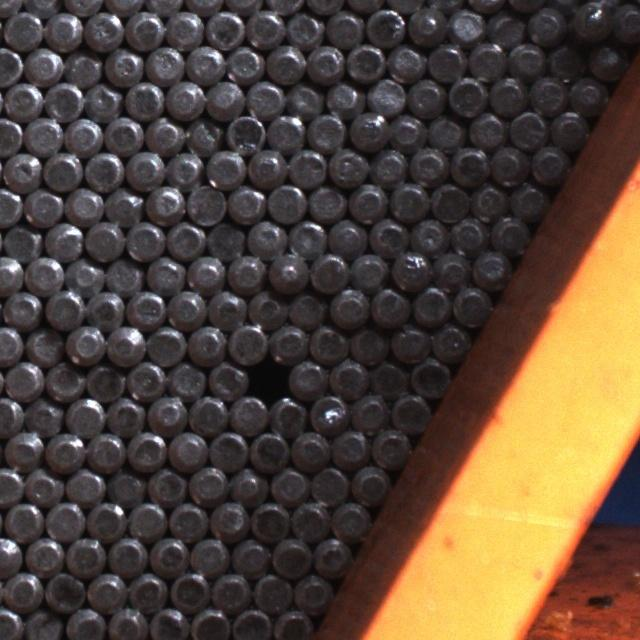tool: (251, 570, 292, 612), (43, 570, 84, 612), (349, 462, 390, 503), (568, 1, 609, 42), (128, 568, 168, 610), (312, 533, 352, 575), (292, 572, 334, 612), (265, 180, 305, 221), (164, 78, 204, 119), (488, 144, 528, 185), (24, 324, 64, 365), (22, 533, 62, 574), (227, 321, 267, 362), (410, 283, 450, 324), (185, 182, 225, 223), (86, 569, 126, 610), (1, 287, 42, 327), (2, 568, 43, 608), (267, 321, 307, 362), (166, 428, 206, 469), (244, 78, 284, 119), (365, 5, 406, 45), (224, 112, 265, 152), (245, 145, 285, 186), (267, 249, 307, 290), (210, 569, 250, 610), (448, 144, 488, 185), (328, 355, 368, 396), (427, 39, 467, 80), (271, 534, 311, 575), (288, 498, 329, 538), (248, 499, 289, 539), (371, 426, 411, 467), (172, 566, 213, 606), (411, 356, 452, 396), (186, 324, 226, 364), (308, 322, 348, 362), (64, 534, 104, 574), (184, 43, 224, 83), (107, 533, 147, 573), (287, 357, 327, 397), (188, 534, 228, 574), (204, 147, 244, 187), (2, 80, 42, 120), (64, 323, 104, 363), (408, 144, 448, 184), (209, 498, 249, 538), (289, 428, 329, 468), (388, 249, 428, 289), (507, 107, 547, 147), (167, 500, 207, 540), (187, 462, 227, 502), (328, 286, 368, 326), (82, 8, 122, 48), (144, 183, 184, 223), (22, 254, 62, 294), (244, 6, 284, 46), (284, 8, 324, 48), (230, 535, 270, 575), (187, 393, 227, 433), (45, 499, 85, 539), (286, 217, 326, 257), (347, 182, 387, 222), (526, 4, 566, 44), (42, 220, 82, 260), (349, 324, 389, 364), (225, 251, 265, 291), (305, 109, 345, 149), (309, 464, 349, 504), (367, 216, 407, 256), (43, 360, 83, 400), (145, 325, 185, 365), (208, 429, 248, 469), (3, 428, 43, 468), (102, 114, 142, 154), (146, 390, 186, 430), (310, 390, 350, 430), (324, 7, 364, 47), (348, 108, 388, 148), (44, 288, 84, 328), (104, 392, 144, 432), (147, 533, 187, 573), (428, 180, 468, 220), (84, 285, 124, 325), (489, 212, 529, 252), (548, 107, 588, 147), (388, 388, 428, 428), (249, 428, 288, 469), (126, 429, 165, 470), (44, 430, 83, 471), (406, 3, 445, 44), (83, 360, 124, 399), (84, 220, 123, 260), (390, 323, 429, 363), (287, 146, 326, 186), (388, 179, 427, 219), (3, 359, 42, 399), (327, 146, 366, 186), (305, 42, 344, 82), (3, 499, 43, 538), (205, 78, 244, 118), (330, 426, 369, 466), (105, 324, 144, 364), (206, 359, 246, 398), (126, 499, 166, 538), (123, 78, 162, 118), (406, 76, 446, 115), (467, 108, 506, 148), (228, 393, 268, 432), (124, 220, 163, 260), (23, 45, 62, 85), (124, 149, 163, 189), (64, 395, 103, 435), (24, 396, 63, 436), (3, 149, 42, 189), (85, 499, 125, 538), (488, 74, 527, 114), (268, 463, 308, 502), (126, 287, 165, 327), (85, 430, 124, 470), (309, 251, 348, 291), (144, 44, 183, 84), (369, 285, 408, 325), (204, 8, 243, 48), (124, 8, 163, 48), (447, 75, 486, 115), (349, 250, 388, 290), (64, 465, 104, 504), (225, 182, 264, 222), (103, 185, 143, 224), (42, 150, 81, 190), (146, 465, 186, 504), (466, 40, 505, 80), (287, 288, 327, 327), (506, 38, 546, 77), (366, 75, 406, 114), (468, 181, 508, 220), (509, 180, 549, 219), (206, 286, 246, 325), (349, 390, 388, 430), (451, 284, 490, 324), (1, 220, 41, 259), (331, 499, 371, 538), (529, 143, 568, 183), (429, 321, 469, 360), (146, 601, 186, 640), (370, 356, 409, 396), (247, 358, 287, 397), (106, 603, 148, 640), (188, 603, 230, 640), (165, 220, 204, 259), (184, 251, 223, 290), (63, 116, 102, 155), (2, 8, 41, 47), (431, 247, 470, 286), (224, 44, 263, 83), (164, 9, 203, 48), (345, 42, 384, 81), (23, 186, 62, 225), (528, 73, 567, 112), (144, 115, 183, 154), (245, 218, 284, 257), (125, 359, 164, 398), (267, 394, 306, 433), (207, 219, 246, 258), (545, 42, 584, 81), (183, 115, 222, 154), (586, 41, 625, 80), (102, 46, 142, 84), (84, 150, 122, 190), (166, 287, 204, 327), (24, 114, 62, 154), (44, 80, 82, 120), (266, 110, 304, 150), (105, 466, 145, 504), (248, 288, 288, 326), (264, 44, 303, 82), (307, 182, 346, 220), (164, 148, 202, 187), (368, 146, 406, 185), (63, 48, 101, 87), (166, 359, 205, 397), (64, 184, 102, 223), (387, 41, 425, 80), (41, 10, 80, 48), (83, 81, 121, 120), (228, 464, 266, 503), (64, 256, 103, 294), (410, 214, 449, 252), (23, 466, 62, 504), (567, 74, 606, 112), (144, 253, 182, 292), (471, 247, 509, 286), (104, 256, 142, 294), (387, 110, 425, 148), (324, 78, 362, 116), (426, 112, 464, 150), (327, 217, 365, 255), (486, 9, 524, 47), (450, 214, 488, 252), (64, 604, 104, 640), (447, 4, 484, 42), (285, 80, 323, 117), (23, 606, 64, 640), (232, 606, 272, 640), (272, 606, 312, 640), (610, 2, 640, 41), (0, 526, 23, 568), (0, 44, 23, 84), (0, 324, 23, 364), (0, 394, 23, 434), (0, 464, 23, 504), (0, 252, 22, 293), (0, 115, 22, 155), (0, 186, 22, 224), (0, 605, 23, 640), (21, 0, 60, 16)
